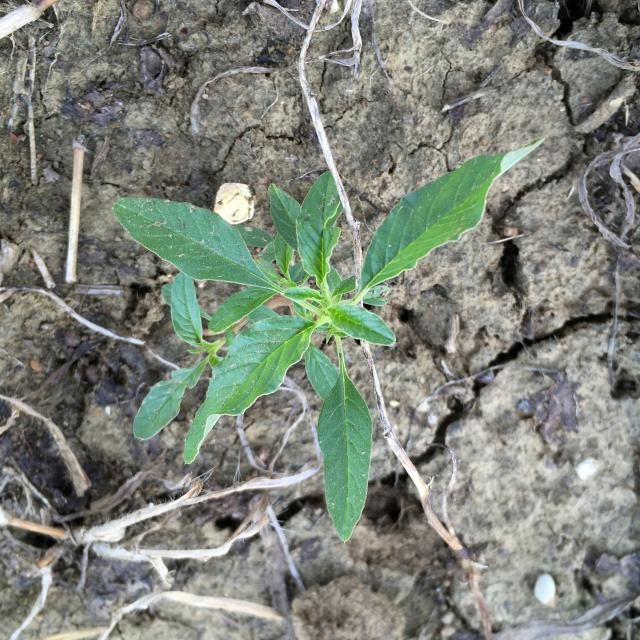Waterhemp: (111, 136, 547, 542)
